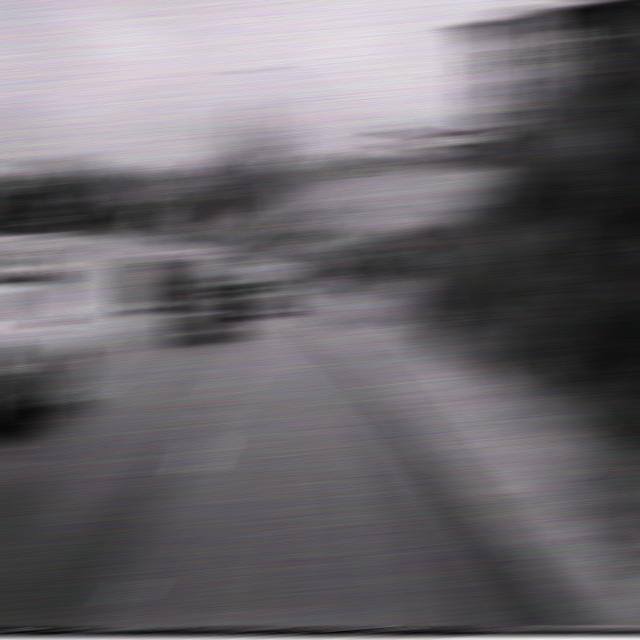pedestrianCrossing: (280, 183, 319, 218)
